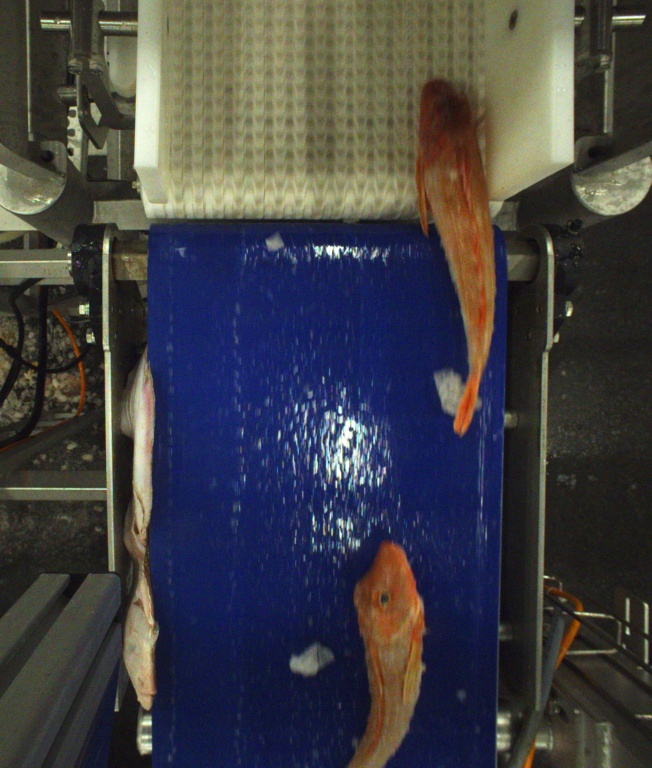GUU: (344, 539, 426, 768)
